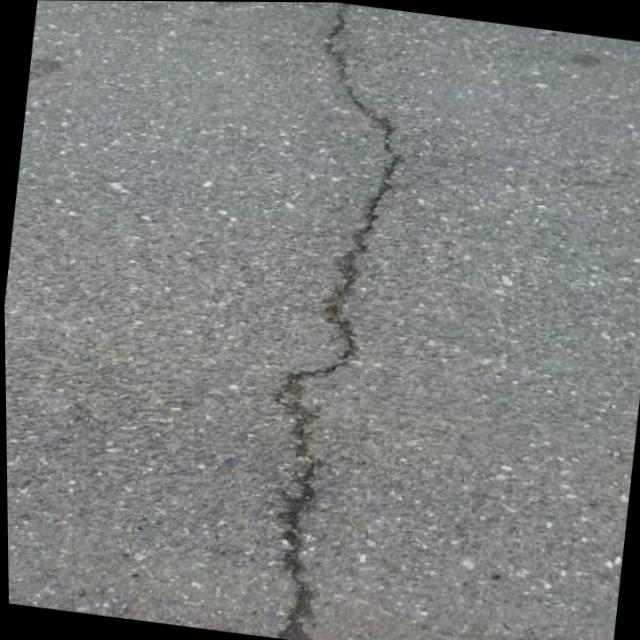Crack: (223, 1, 453, 640)
